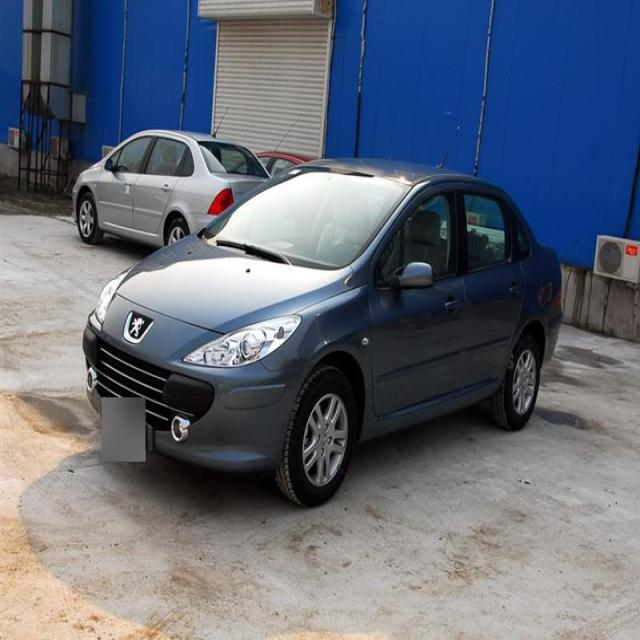back_left_side_light: (556, 287, 562, 309)
door: (453, 178, 525, 399)
front_bumper: (75, 340, 222, 437)
front_glass: (198, 163, 414, 270)
front_left_side_door: (366, 168, 458, 437)
front_left_side_light: (180, 313, 304, 369)
front_left_side_mirror: (394, 260, 436, 290)
front_right_side_light: (95, 263, 136, 325)
wheel: (278, 353, 358, 506), (498, 309, 551, 431)
